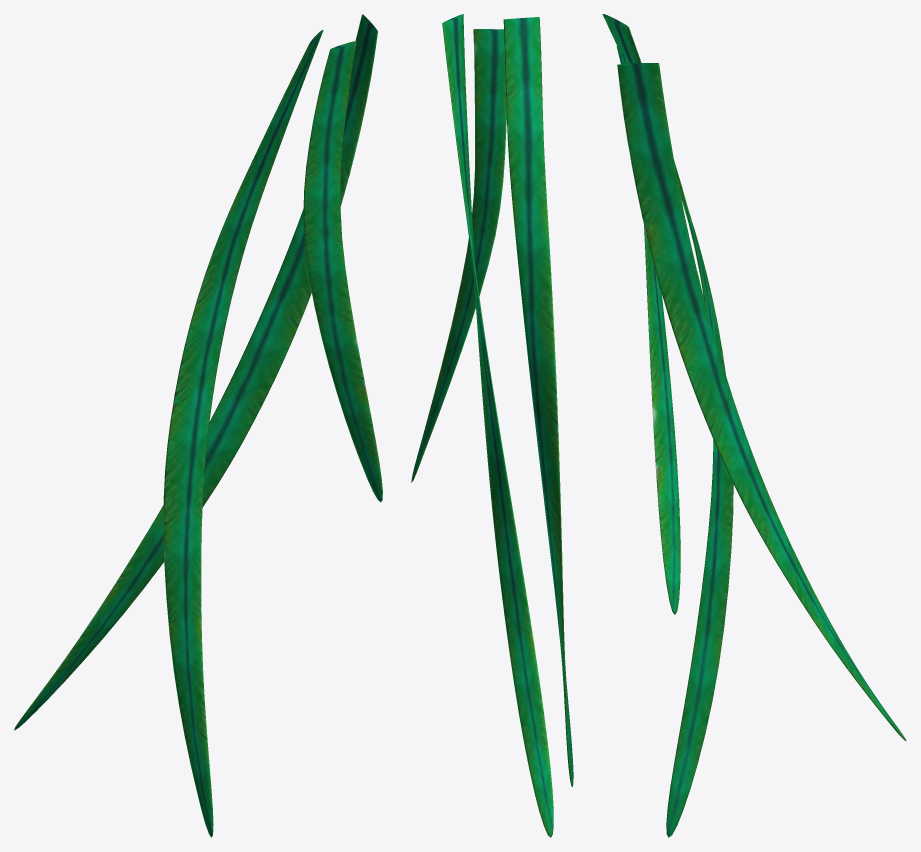
File: pajaro2tail.obj
The picture shows the model from 3 angles, left to right: view 1: azimuth 30°, elevation 25°; view 2: azimuth 150°, elevation 25°; view 3: azimuth 270°, elevation 25°; orthographic projection. The views are drawn at different scales.
Visible parts, largest first — view 1: 12245_Bird_v1_l2.002; view 2: 12245_Bird_v1_l2.002; view 3: 12245_Bird_v1_l2.002.
Boxes of the visible parts, <box> form: 12245_Bird_v1_l2.002: <box>14,14,382,837</box>; 12245_Bird_v1_l2.002: <box>411,14,573,837</box>; 12245_Bird_v1_l2.002: <box>602,14,906,837</box>.
Size of the model in its own units: 0.7991 by 2.34 by 0.7512.
